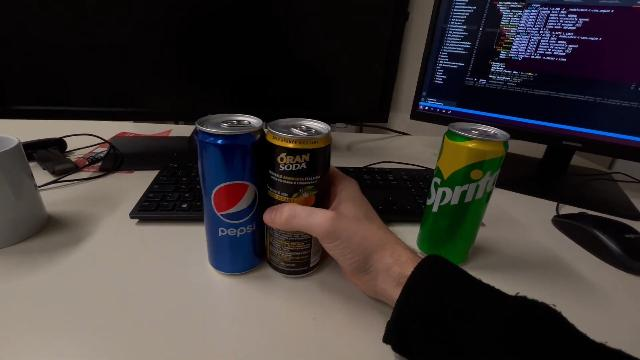OranSoda: (260, 115, 334, 281)
Pepsi: (193, 112, 271, 278)
Sprite: (414, 119, 510, 270)
